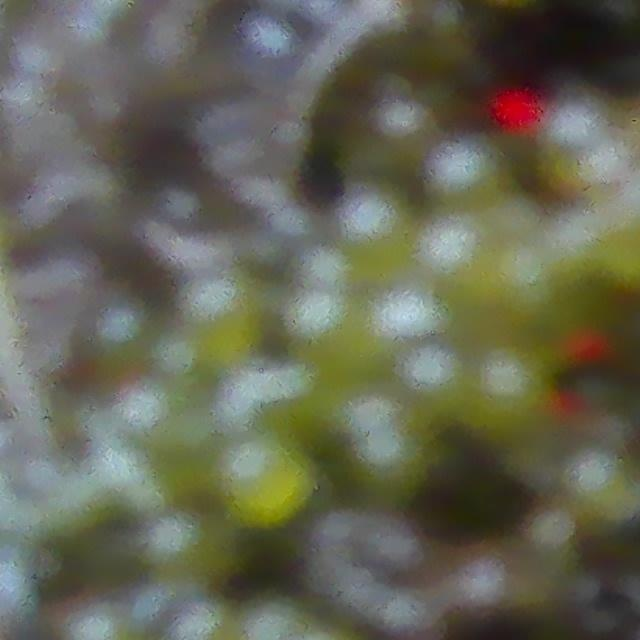SeaGrape: (285, 275, 384, 375), (305, 180, 406, 266), (470, 338, 555, 428), (216, 439, 297, 528), (421, 216, 489, 284), (405, 342, 471, 410), (430, 136, 497, 200), (341, 188, 406, 244)
